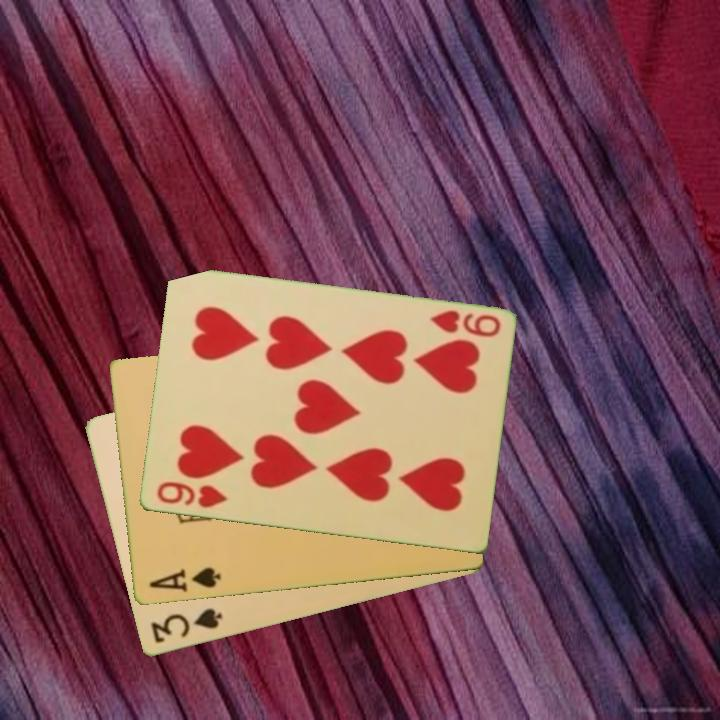3s: (147, 605, 225, 647)
9h: (426, 307, 503, 341), (152, 478, 230, 511)
As: (145, 564, 224, 596)
